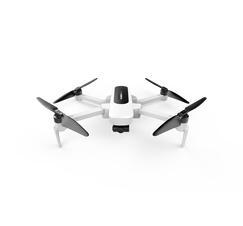drone: (33, 66, 213, 158)
